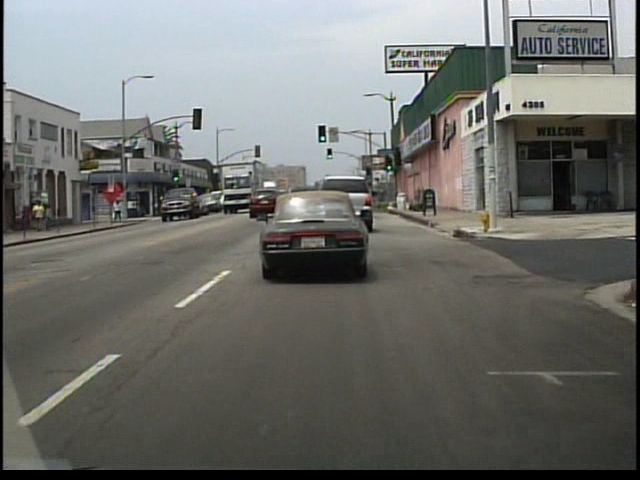person: (35, 197, 47, 230), (46, 203, 57, 232), (112, 199, 124, 223)
